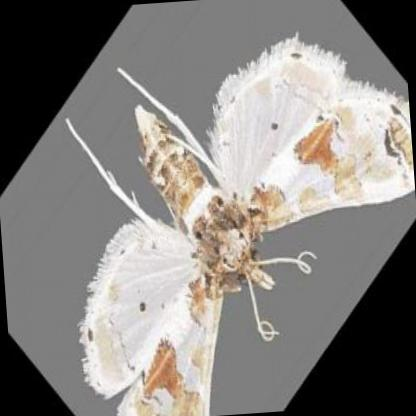leucinodes: (70, 36, 415, 416)
